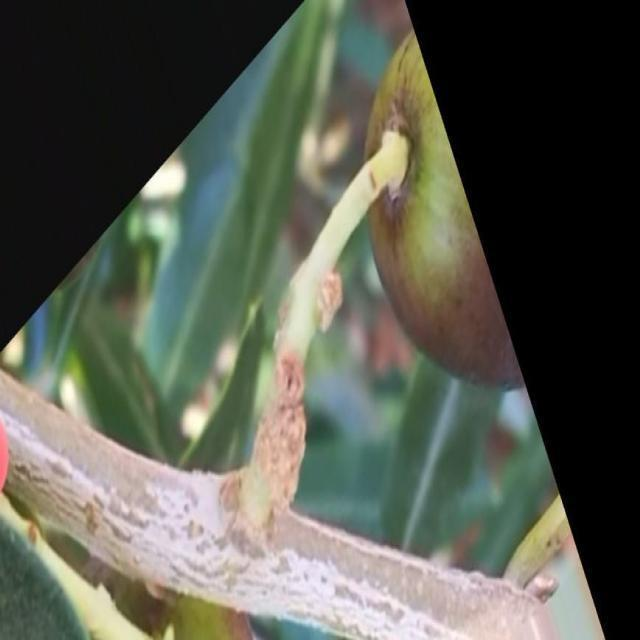Tuberculosis: (248, 352, 306, 550), (316, 272, 342, 331)
